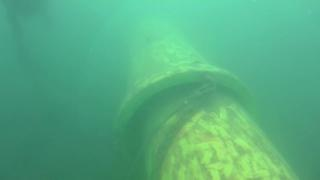pipe: (108, 18, 301, 180)
